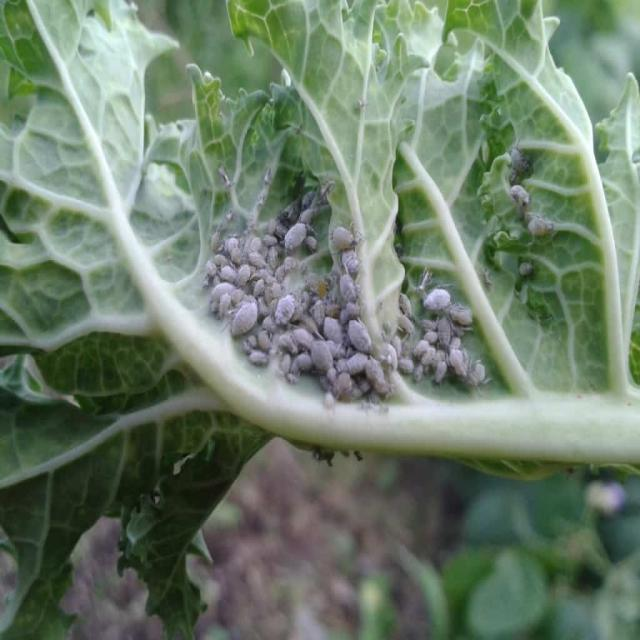aphid: (518, 208, 560, 246), (423, 274, 458, 316), (445, 301, 478, 335), (365, 357, 390, 394), (348, 320, 371, 352), (331, 227, 354, 250), (449, 348, 466, 378), (510, 185, 530, 207)
